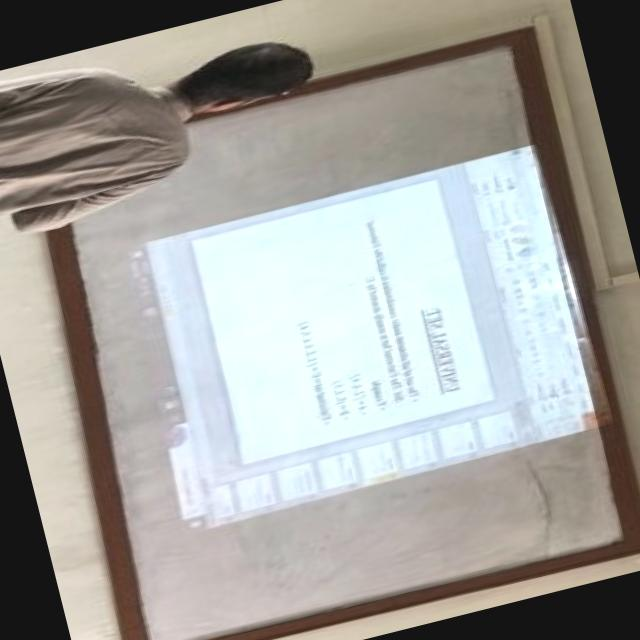Instructor: (0, 14, 344, 226)
Slide: (106, 145, 609, 537)
White-board: (43, 37, 637, 640)
